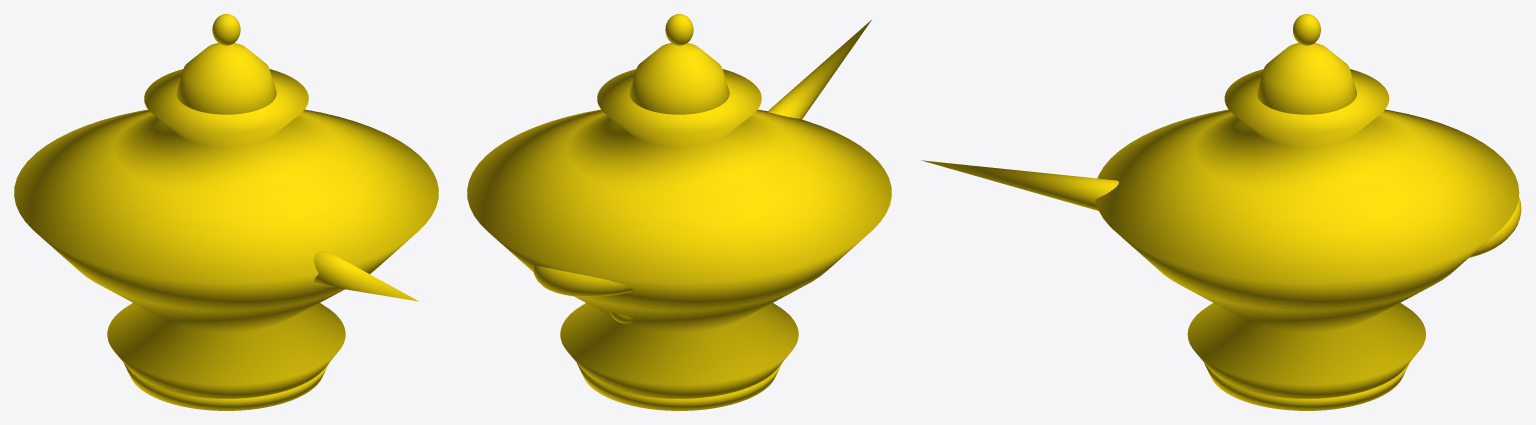
Rendered from ai_parts_069c71.glb.
The picture shows the model from 3 angles, left to right: view 1: azimuth 30°, elevation 25°; view 2: azimuth 150°, elevation 25°; view 3: azimuth 270°, elevation 25°; orthographic projection.
Parts seen in each view (by area): view 1: 00_lamp_body, 05_lid_dome, 07_base_pedestal, 01_spout, 06_lid_knob; view 2: 00_lamp_body, 05_lid_dome, 07_base_pedestal, 01_spout, 02_handle_loop, 06_lid_knob; view 3: 00_lamp_body, 05_lid_dome, 01_spout, 07_base_pedestal, 06_lid_knob, 02_handle_loop.
Part boxes in pixels (x1,y1,x2,y2): 00_lamp_body: (14,69,438,398); 05_lid_dome: (176,43,276,114); 07_base_pedestal: (124,363,328,410); 01_spout: (314,251,418,301); 06_lid_knob: (212,14,240,45); 00_lamp_body: (467,69,891,398); 05_lid_dome: (629,43,729,114); 07_base_pedestal: (577,363,781,410); 01_spout: (767,20,871,119); 02_handle_loop: (533,266,632,296); 06_lid_knob: (665,14,693,45); 00_lamp_body: (1095,69,1519,398); 05_lid_dome: (1256,43,1356,114); 01_spout: (921,160,1118,210); 07_base_pedestal: (1204,363,1409,410); 06_lid_knob: (1293,14,1320,45); 02_handle_loop: (1469,197,1521,257).
Bounding box in the file's own units: 19.6 × 18.05 × 27.73.
1 material, 1 textured.
